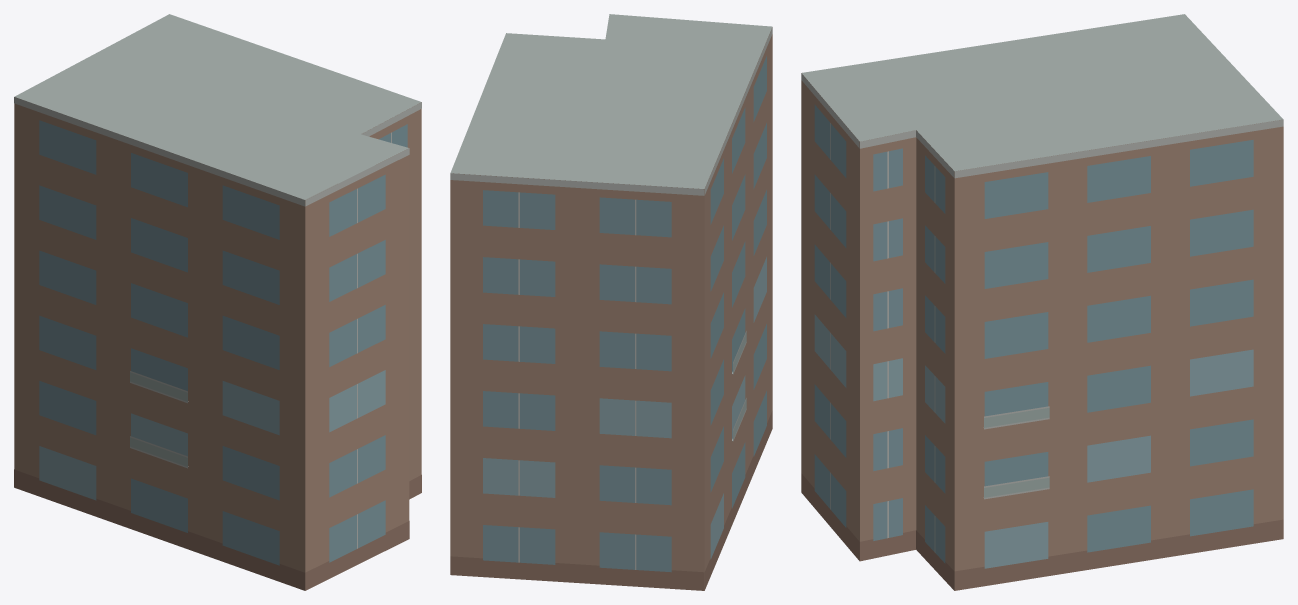
Rendered from survey-upis-32881764.glb.
3 views of the same model, side by side, from view 1: azimuth 30°, elevation 25°; view 2: azimuth 150°, elevation 25°; view 3: azimuth 270°, elevation 25° (orthographic). The views are drawn at different scales.
Visible parts, largest first — view 1: survey-upis-32881764.tmp; view 2: survey-upis-32881764.tmp; view 3: survey-upis-32881764.tmp.
Part boxes in pixels (bbox=[...]): survey-upis-32881764.tmp: bbox=[14, 14, 421, 590]; survey-upis-32881764.tmp: bbox=[450, 14, 772, 590]; survey-upis-32881764.tmp: bbox=[801, 14, 1283, 590].
Bounding box in the file's own units: 11.67 × 14.5 × 15.11.
